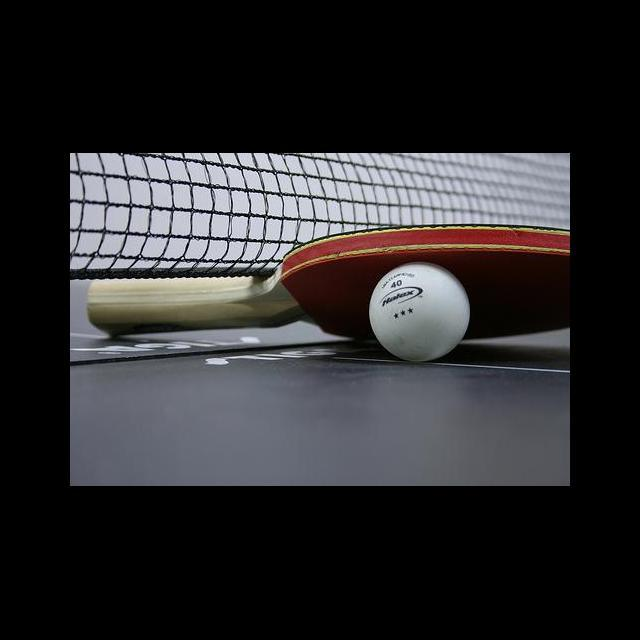ping-pong-ball: (368, 259, 472, 365)
